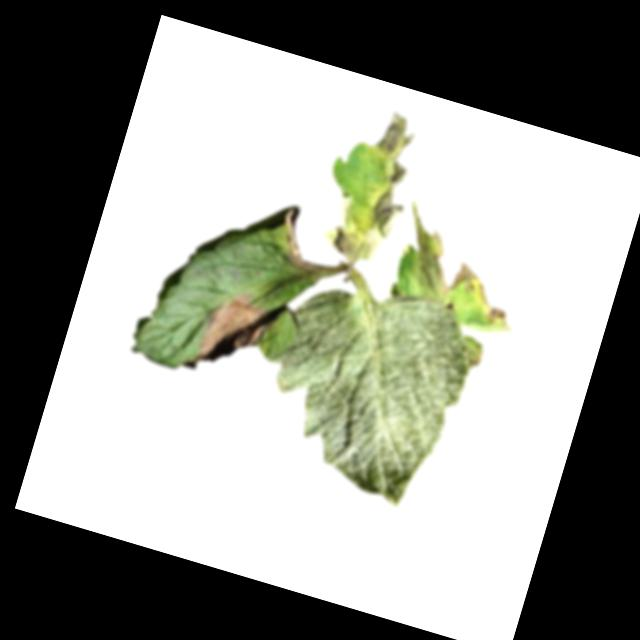Late_blight: (310, 98, 431, 269), (190, 279, 279, 380), (386, 198, 467, 296), (271, 206, 331, 273), (470, 282, 515, 327), (447, 258, 483, 299), (460, 343, 485, 374)
healthy: (234, 256, 487, 518)
